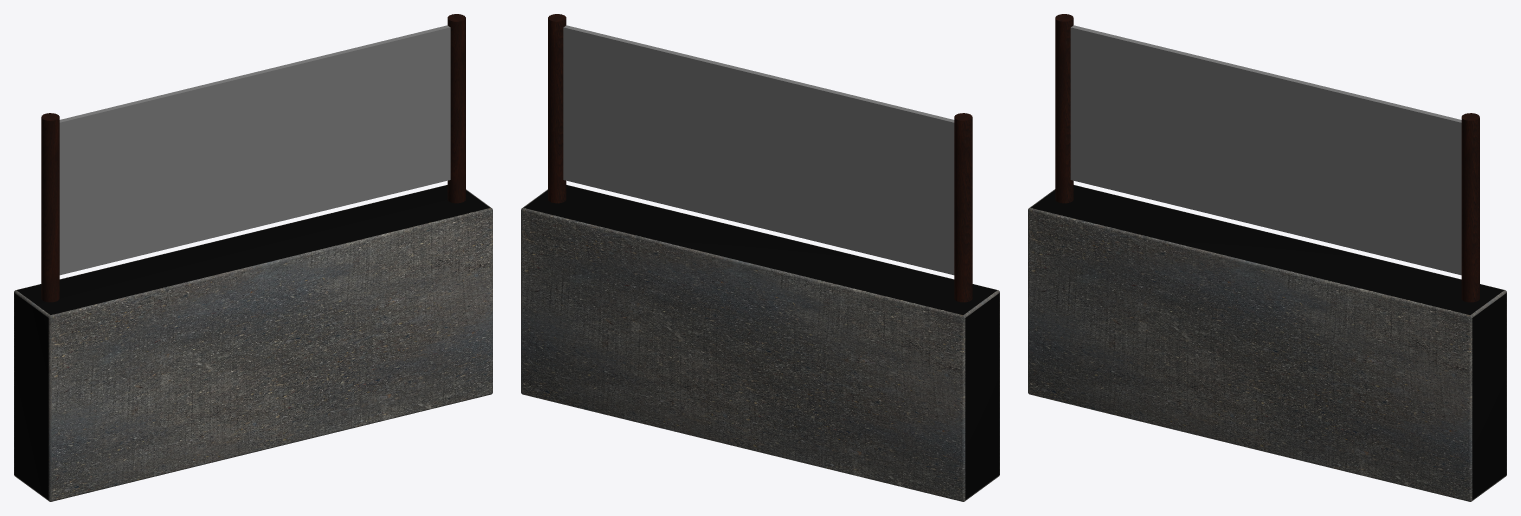
Rendered from concrete_modern_fence.glb.
The picture shows the model from 3 angles, left to right: view 1: azimuth 30°, elevation 25°; view 2: azimuth 150°, elevation 25°; view 3: azimuth 330°, elevation 25°; orthographic projection.
Parts seen in each view (by area): view 1: concrete_block, glass, wood_stick_2, wood_stick_1; view 2: concrete_block, glass, wood_stick_2, wood_stick_1; view 3: concrete_block, glass, wood_stick_1, wood_stick_2.
Part boxes in pixels (box(x1,y1,x2,y2)): concrete_block: box(14, 185, 492, 501); glass: box(59, 25, 450, 275); wood_stick_2: box(41, 113, 59, 302); wood_stick_1: box(447, 14, 465, 203); concrete_block: box(521, 185, 999, 501); glass: box(563, 25, 954, 275); wood_stick_2: box(954, 113, 972, 302); wood_stick_1: box(548, 14, 566, 203); concrete_block: box(1028, 185, 1506, 501); glass: box(1070, 25, 1461, 275); wood_stick_1: box(1461, 113, 1479, 302); wood_stick_2: box(1055, 14, 1073, 203).
Size of the model in its own units: 2.1 by 1.67 by 0.3003.
Materials: 5 (2 with a texture image).
